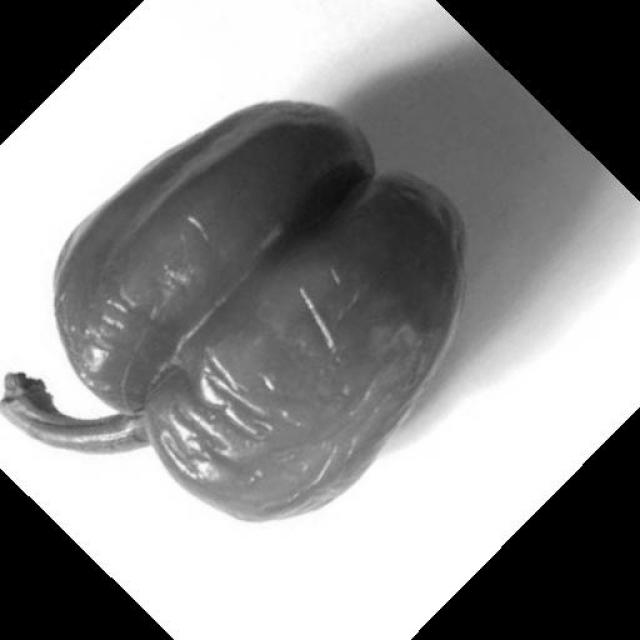Stale_Capsicum: (107, 95, 453, 487)
